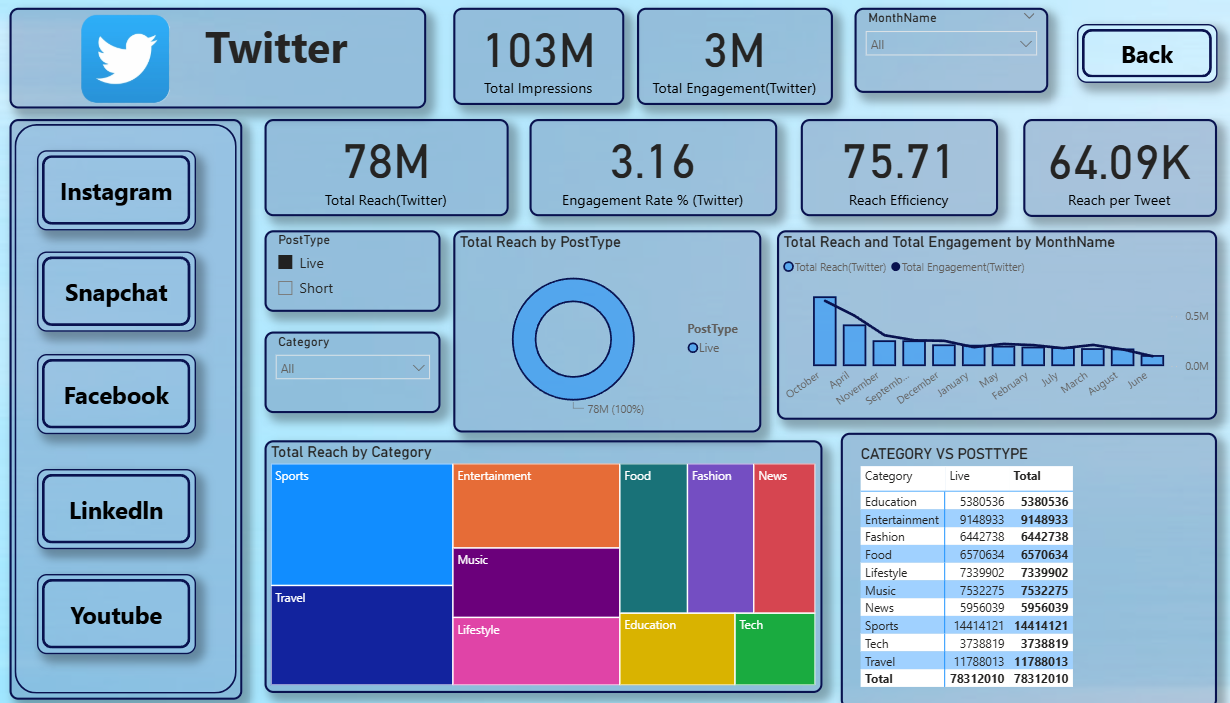

The dashboard page shown, as its layout file describes it:
{"tool":"powerbi","page":{"name":"Twitter","canvas":[1400,800],"ordinal":4},"visuals":[{"type":"textbox","box":[19.4,9.7,469.4,113.9],"z":0},{"type":"image","box":[0,0,300,134.7],"z":1000},{"type":"card","fields":{"Values":["Twitter_Data.Total Reach(Twitter)"]},"box":[306.9,134.7,275,109.7],"z":2000},{"type":"card","fields":{"Values":["Twitter_Data.Total Impressions"]},"box":[519.4,9.7,193.1,109.7],"z":3000},{"type":"card","fields":{"Values":["Twitter_Data.Engagement Rate % (Twitter)"]},"box":[605.6,134.7,279.2,109.7],"z":4000},{"type":"card","fields":{"Values":["Twitter_Data.Avg Reach per Tweet"]},"box":[911.1,134.7,222.2,109.7],"z":5000},{"type":"card","fields":{"Values":["Twitter_Data.Reach per Tweet"]},"box":[1162.5,134.7,218.1,110],"z":6000},{"type":"lineClusteredColumnComboChart","title":"Total Reach and Total Engagement by MonthName","fields":{"Category":["Twitter_Data.MonthName"],"Y":["Twitter_Data.Total Reach(Twitter)"],"Y2":["Twitter_Data.Total Engagement(Twitter)"]},"box":[884.7,261.1,495.8,213.9],"z":7000},{"type":"card","fields":{"Values":["Twitter_Data.Total Engagement(Twitter)"]},"box":[726.4,9.7,220.8,109.7],"z":8000},{"type":"donutChart","title":"Total Reach by PostType","fields":{"Category":["Twitter_Data.PostType"],"Y":["Twitter_Data.Total Reach(Twitter)"]},"box":[519.4,261.1,347.2,227.8],"z":9000},{"type":"treemap","title":"Total Reach by Category","fields":{"Values":["Twitter_Data.Total Reach(Twitter)"],"Group":["Twitter_Data.Category"]},"box":[306.9,497.2,629.2,284.7],"z":10000},{"type":"pivotTable","title":"CATEGORY VS POSTTYPE","fields":{"Rows":["Twitter_Data.Category"],"Columns":["Twitter_Data.PostType"],"Values":["Twitter_Data.Total Reach(Twitter)"]},"box":[956.9,488.9,423.6,311.1],"z":11000},{"type":"slicer","fields":{"Values":["Twitter_Data.MonthName"]},"box":[972.2,9.7,218.1,95.8],"z":12000},{"type":"slicer","fields":{"Values":["Twitter_Data.PostType"]},"box":[306.9,261.1,198.6,91.7],"z":13000},{"type":"slicer","fields":{"Values":["Twitter_Data.Category"]},"box":[306.9,375,198.6,91.7],"z":14000},{"type":"shape","box":[19.4,134.7,262.5,654.2],"z":15000},{"type":"actionButton","box":[50,170.8,179.2,90.3],"z":16000},{"type":"actionButton","box":[50,284.7,179.2,90.3],"z":17000},{"type":"actionButton","box":[51.4,400,179.2,90.3],"z":18000},{"type":"actionButton","box":[50,529.2,179.2,90.3],"z":19000},{"type":"actionButton","box":[50,647.2,179.2,90.3],"z":20000},{"type":"actionButton","box":[1222.2,27.8,158.3,66.7],"z":21000}]}

Visuals, with their boxes in screenshot pixels (x1, y1, x2, y2), scaled from the page's 1400x800 canvas onto the 1230x703 screenshot:
textbox: [17,9,429,109]
image: [0,0,264,118]
card - Twitter_Data.Total Reach(Twitter): [270,118,511,215]
card - Twitter_Data.Total Impressions: [456,9,626,105]
card - Twitter_Data.Engagement Rate % (Twitter): [532,118,777,215]
card - Twitter_Data.Avg Reach per Tweet: [800,118,996,215]
card - Twitter_Data.Reach per Tweet: [1021,118,1213,215]
"Total Reach and Total Engagement by MonthName" lineClusteredColumnComboChart: [777,229,1213,417]
card - Twitter_Data.Total Engagement(Twitter): [638,9,832,105]
"Total Reach by PostType" donutChart: [456,229,761,430]
"Total Reach by Category" treemap: [270,437,822,687]
"CATEGORY VS POSTTYPE" pivotTable: [841,430,1213,702]
slicer - Twitter_Data.MonthName: [854,9,1046,93]
slicer - Twitter_Data.PostType: [270,229,444,310]
slicer - Twitter_Data.Category: [270,330,444,410]
shape: [17,118,248,693]
actionButton: [44,150,201,229]
actionButton: [44,250,201,330]
actionButton: [45,352,203,431]
actionButton: [44,465,201,544]
actionButton: [44,569,201,648]
actionButton: [1074,24,1213,83]
